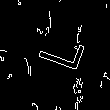L_W: (26, 32, 84, 78)
